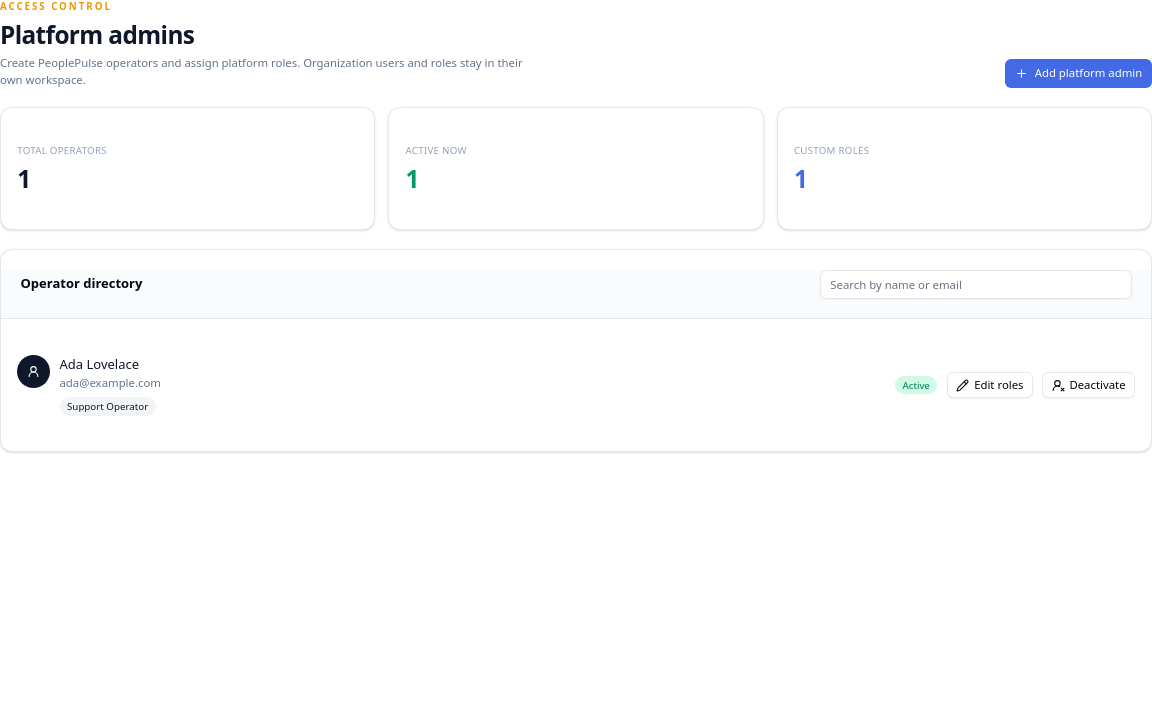
Scenario: PlatformAdminsPage › shows assignable platform roles while excluding protected system roles
The width and height of the screenshot is (1152, 720).
Step 1. Click the button "Add platform admin" → (1079, 73), box 1005,58 -> 1151,88
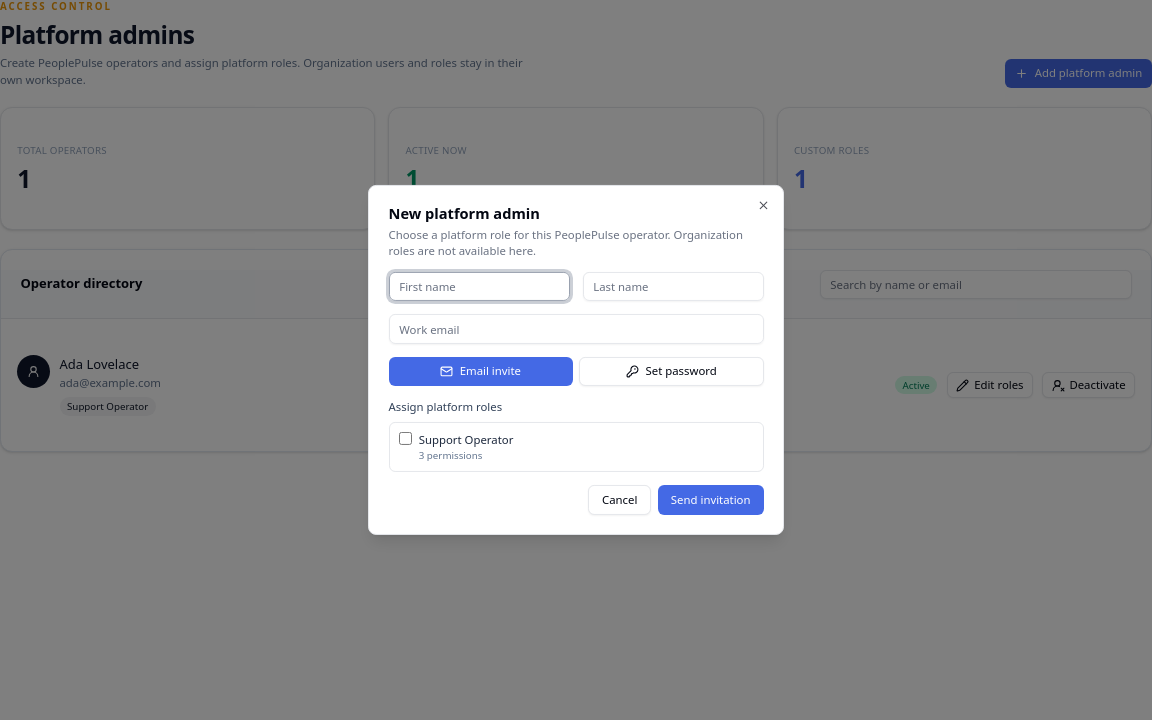
Check: the checkbox labelled "Support Operator" is shown, box 399,432 -> 412,445
